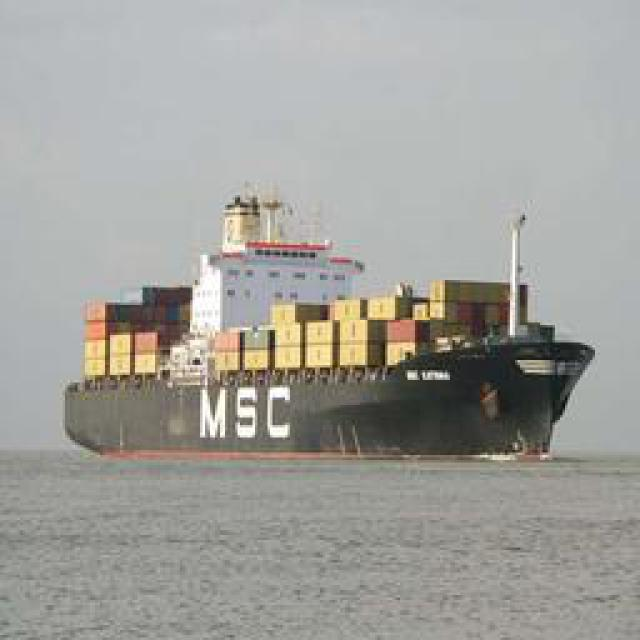Ship: (48, 198, 598, 470)
